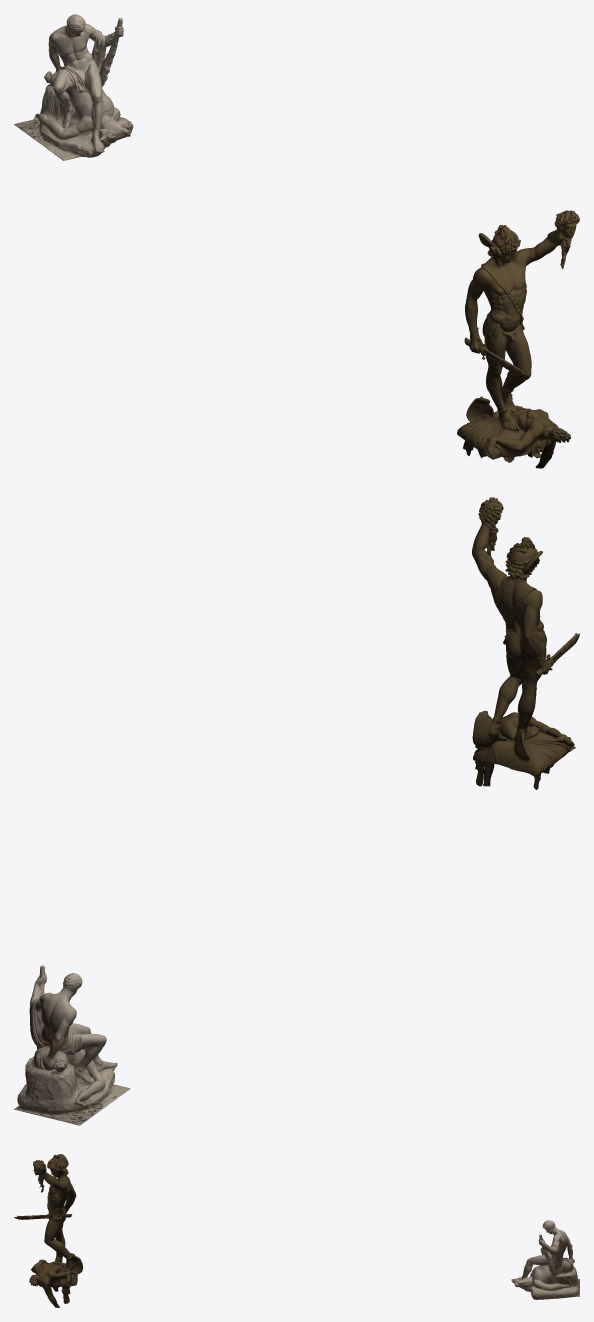
File: esculturas-media.glb
3 renders of one model, top to bottom at view 1: azimuth 30°, elevation 25°; view 2: azimuth 150°, elevation 25°; view 3: azimuth 270°, elevation 25°, orthographic. The views are drawn at different scales.
Visible parts, largest first — view 1: escultura_perseo, escultura_teseo-minotauro; view 2: escultura_perseo, escultura_teseo-minotauro; view 3: escultura_perseo, escultura_teseo-minotauro.
Part boxes in pixels (x1=…): escultura_perseo: x1=457, y1=210, x2=579, y2=468; escultura_teseo-minotauro: x1=14, y1=14, x2=133, y2=160; escultura_perseo: x1=472, y1=497, x2=579, y2=789; escultura_teseo-minotauro: x1=14, y1=965, x2=130, y2=1125; escultura_perseo: x1=14, y1=1154, x2=83, y2=1307; escultura_teseo-minotauro: x1=511, y1=1220, x2=579, y2=1299.
Size of the model in its own units: 1.16 by 3.2 by 10.93.
